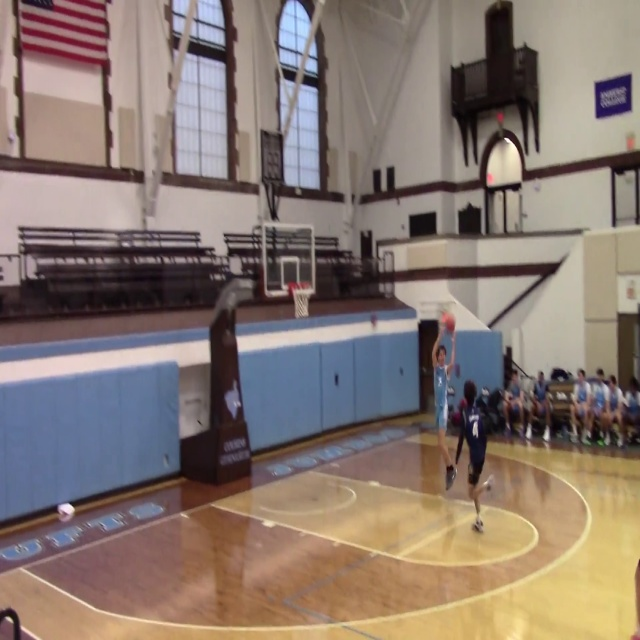Basketball: (57, 503, 75, 522), (441, 312, 456, 332), (600, 412, 612, 430), (450, 411, 461, 426), (447, 386, 455, 395)
